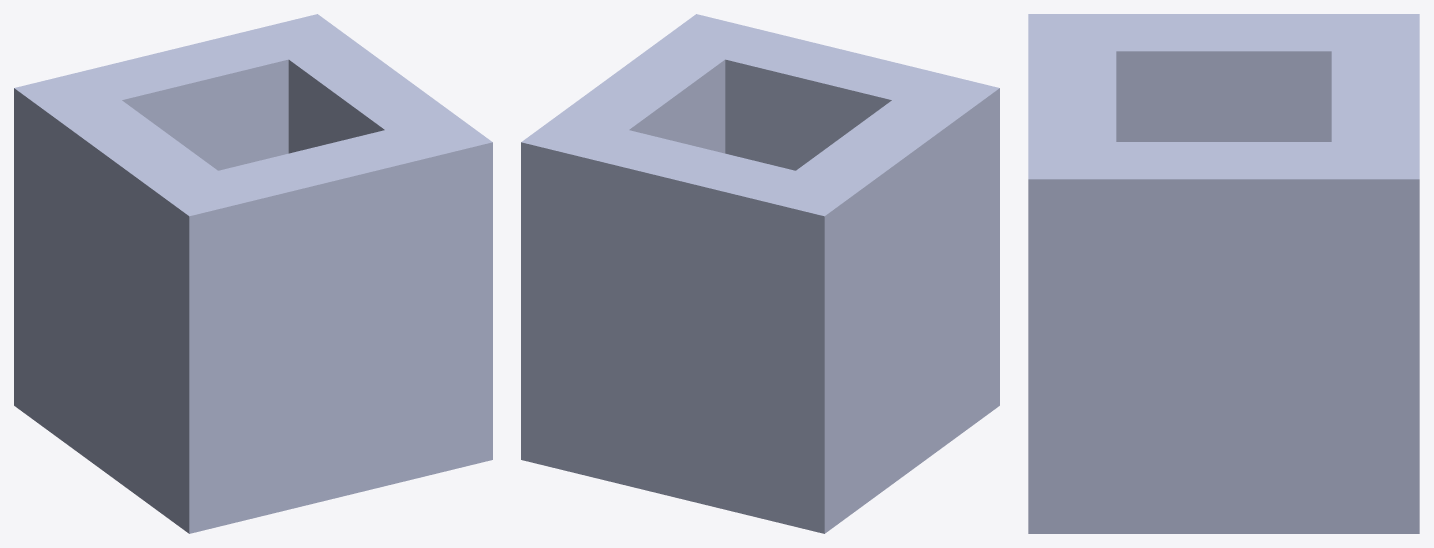
File: carre.fbx
3 views of the same model, side by side, from view 1: azimuth 30°, elevation 25°; view 2: azimuth 150°, elevation 25°; view 3: azimuth 270°, elevation 25° (orthographic). The views are drawn at different scales.
Parts seen in each view (by area): view 1: object; view 2: object; view 3: object.
Boxes of the visible parts, <box> form: object: <box>14,14,492,533</box>; object: <box>521,14,999,533</box>; object: <box>1028,14,1419,533</box>.
Bounding box in the file's own units: 0.002 × 0.002 × 0.002.
